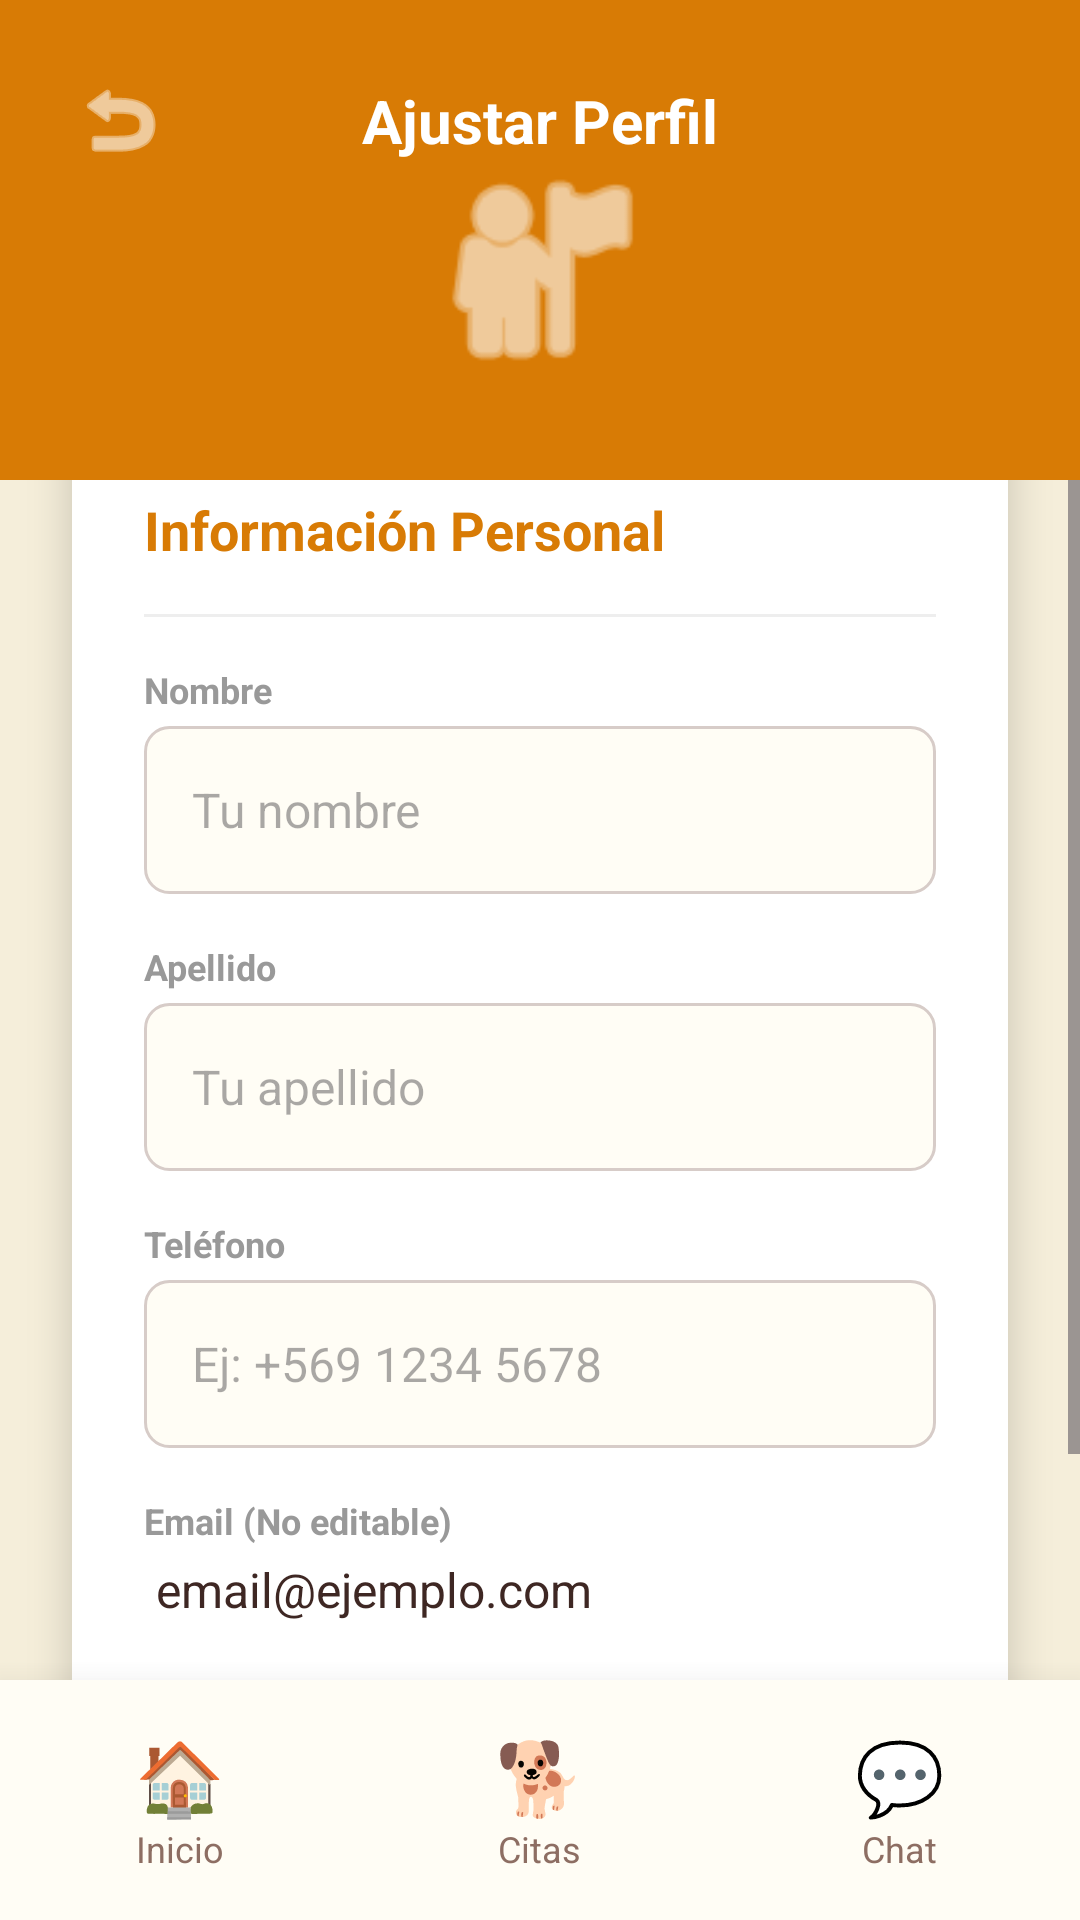

Point at icon controls on the screen. Image size 1080w x 1920h, points as (x=x, y=y).
Foto de perfil: (x=542, y=270)
Volver al login: (x=121, y=120)
